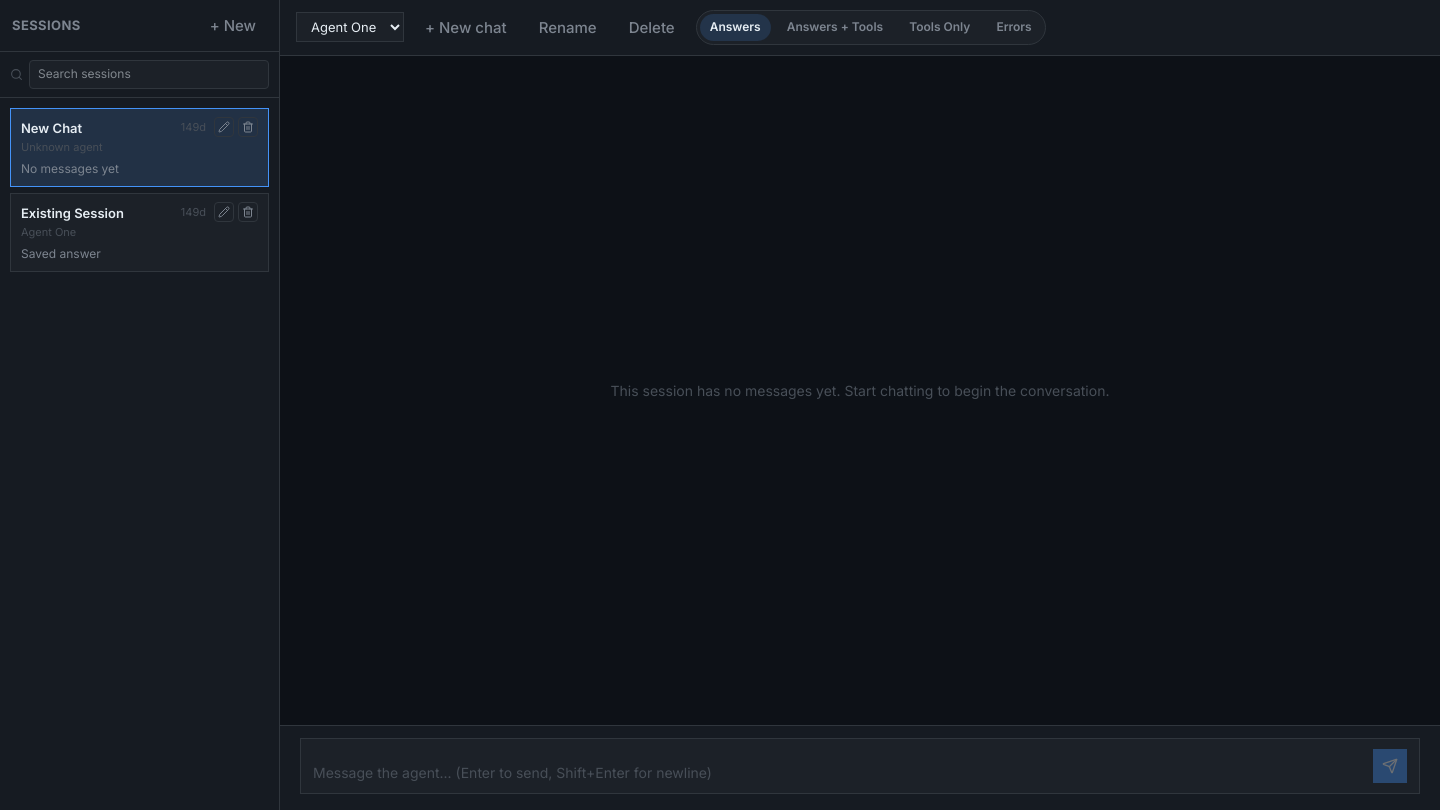
it: ChatPage › switches back to a newly created empty session after opening another session
This screenshot has width=1440, height=810.
Expected: the text "Existing Session" is shown, [21,205,124,221]
Click the button "+ New": x=233, y=26 [199,10,267,41]
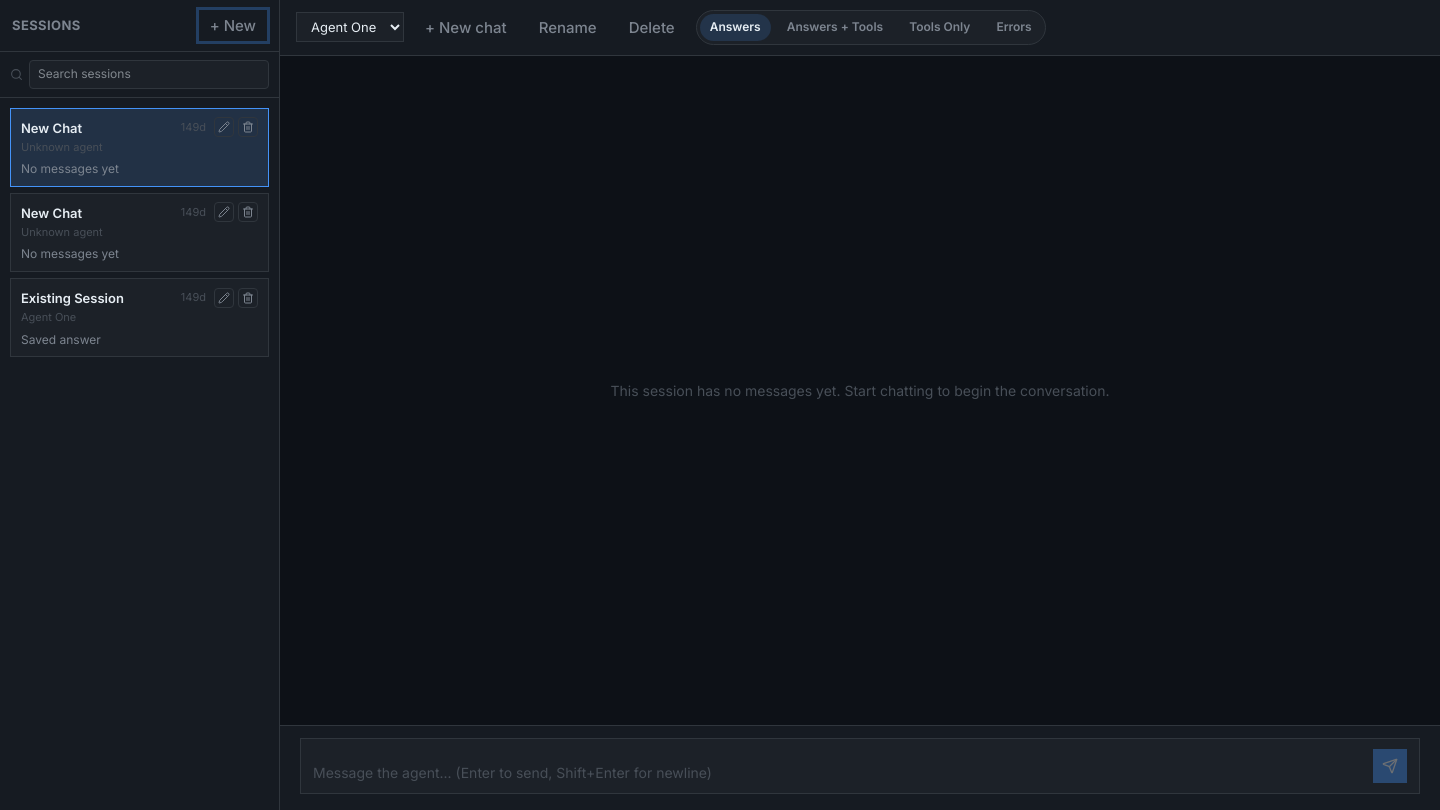
Click the button "Existing Session": x=97, y=298 [21,287,173,308]
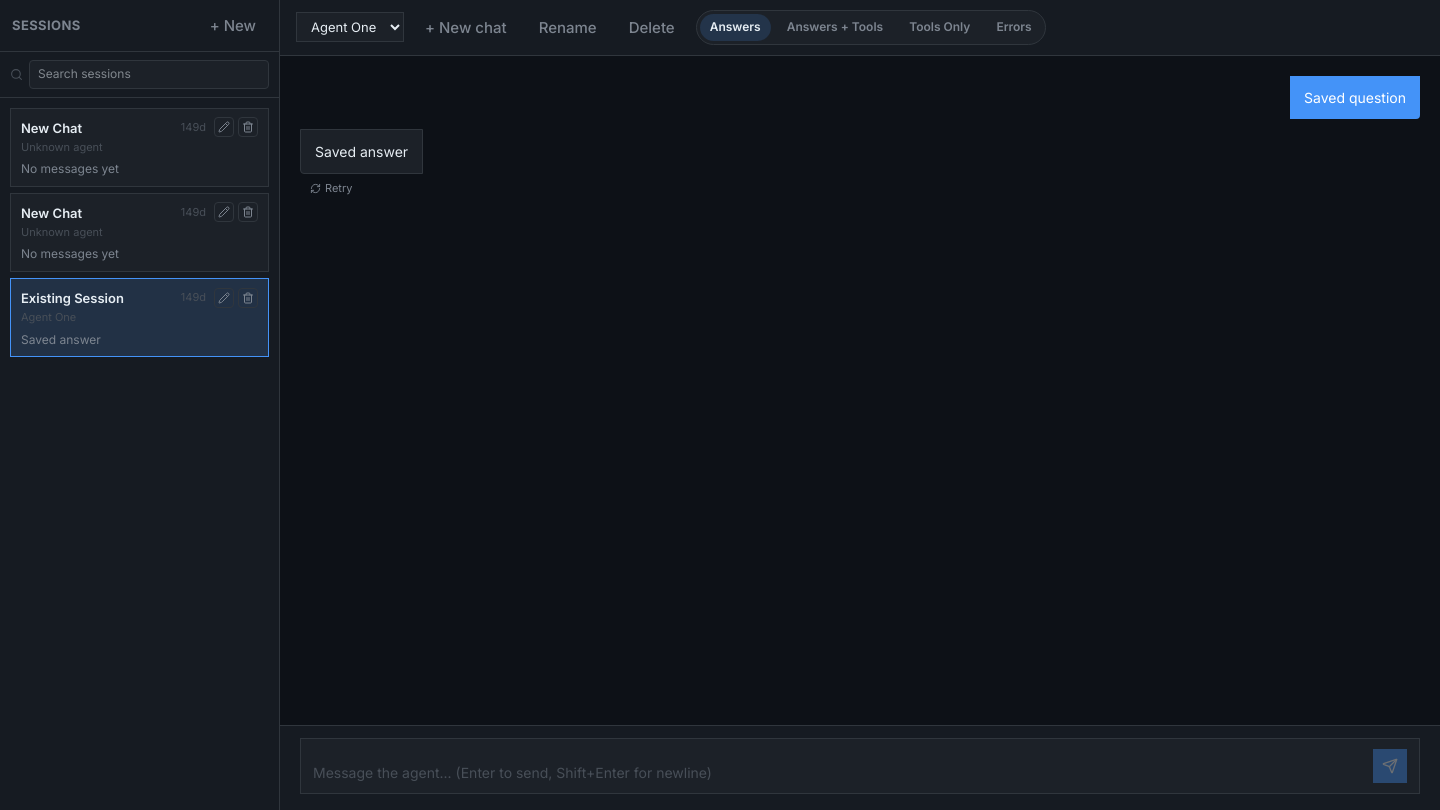
Expected: the element with class "chat-page__thread" is shown, [300,76,1420,199]
Result: the text "Saved question" is shown at [1290,76,1420,119]
Result: the 1st text "Saved answer" is shown at [315,143,408,160]
Click the 1st button "New Chat": x=97, y=127 [21,117,173,138]
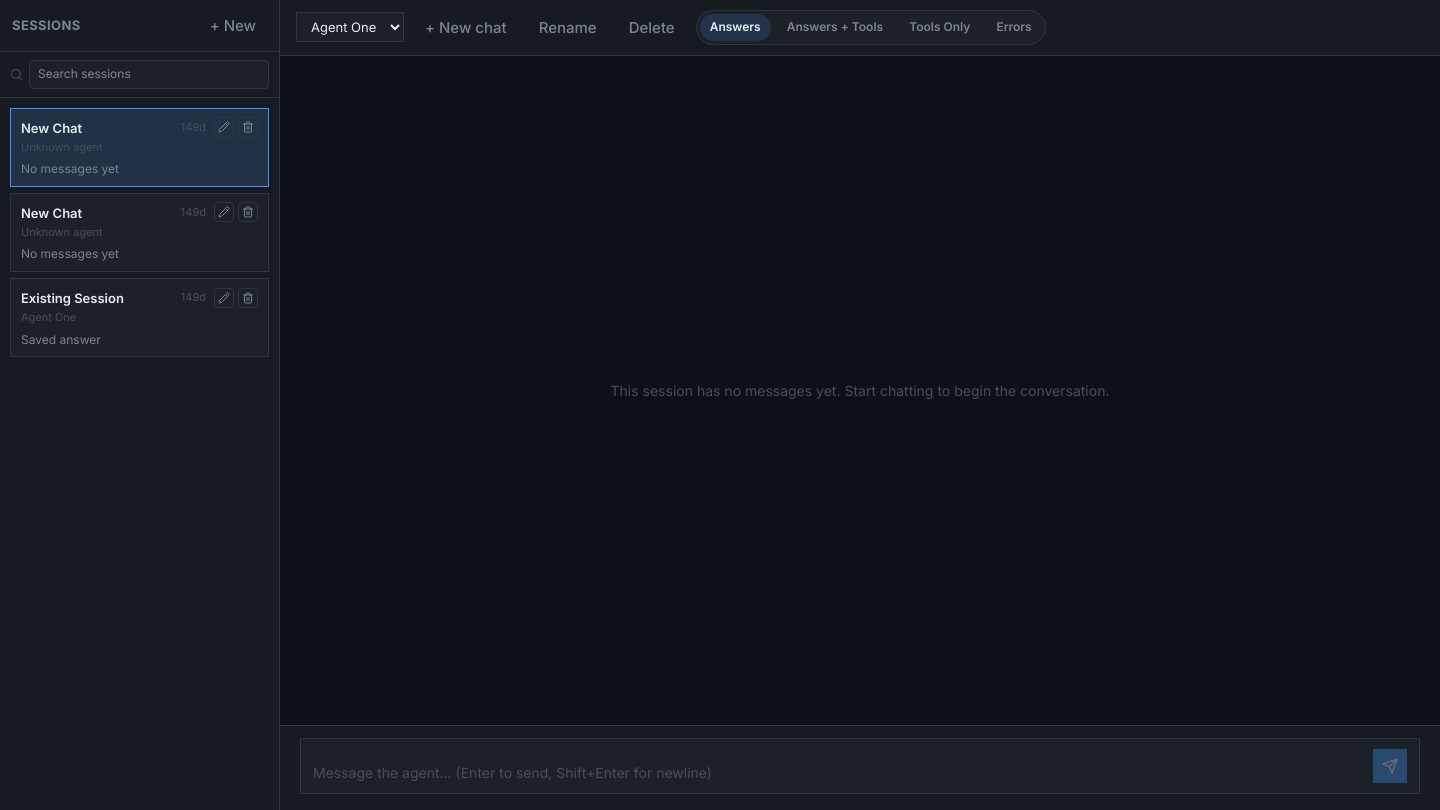
Result: the text "Saved question" is gone
